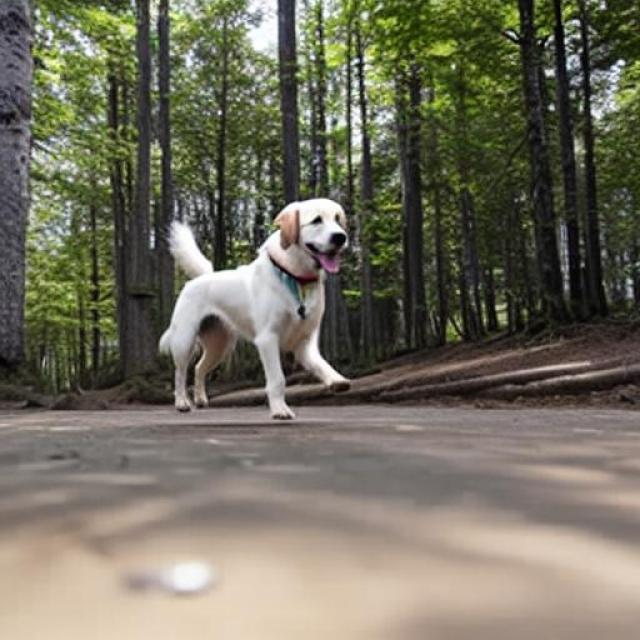Dog: (158, 197, 352, 422)
